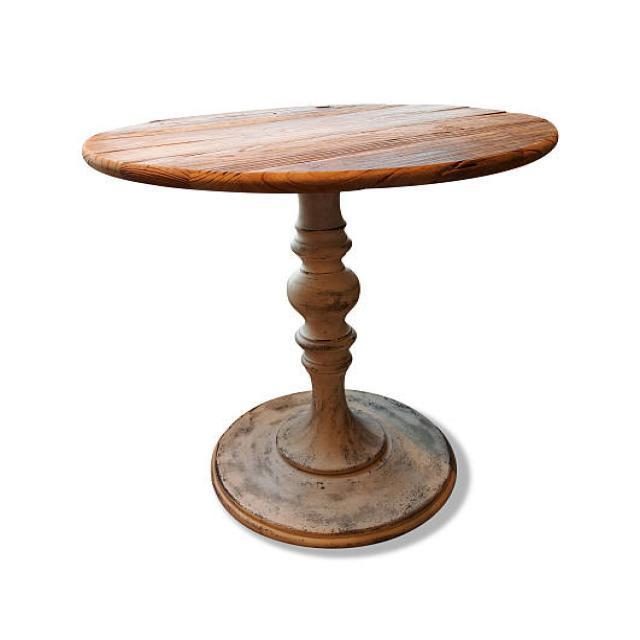table: (80, 101, 558, 549)
